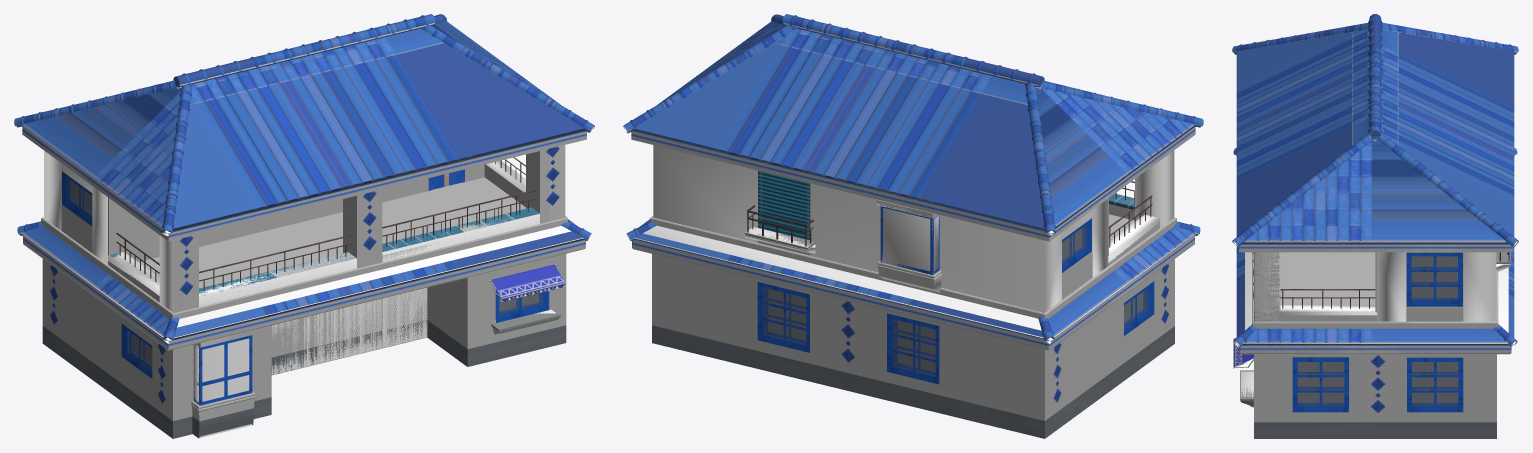
File: objects_un_c02house02_s1.gltf
3 views of the same model, side by side, from view 1: azimuth 30°, elevation 25°; view 2: azimuth 150°, elevation 25°; view 3: azimuth 270°, elevation 25° (orthographic). The views are drawn at different scales.
Visible parts, largest first — view 1: um_objects_un_c02house02_s1_model_lod0Shape:objects_un_c02ho (×7), um_objects_un_c02house02_s1_model_lod1Shape:objects_un_c02ho (×6), um_objects_un_c02house02_s1_model_lod2Shape:objects_un_c02ho (×6); view 2: um_objects_un_c02house02_s1_model_lod0Shape:objects_un_c02ho (×6), um_objects_un_c02house02_s1_model_lod1Shape:objects_un_c02ho (×5), um_objects_un_c02house02_s1_model_lod2Shape:objects_un_c02ho (×7); view 3: um_objects_un_c02house02_s1_model_lod1Shape:objects_un_c02ho (×5), um_objects_un_c02house02_s1_model_lod0Shape:objects_un_c02ho (×5), um_objects_un_c02house02_s1_model_lod2Shape:objects_un_c02ho (×6).
Part boxes in pixels (bbox=[...]): um_objects_un_c02house02_s1_model_lod0Shape:objects_un_c02ho (×7): bbox=[14, 14, 594, 438]; um_objects_un_c02house02_s1_model_lod1Shape:objects_un_c02ho (×6): bbox=[21, 16, 587, 438]; um_objects_un_c02house02_s1_model_lod2Shape:objects_un_c02ho (×6): bbox=[28, 16, 585, 438]; um_objects_un_c02house02_s1_model_lod0Shape:objects_un_c02ho (×6): bbox=[623, 14, 1203, 438]; um_objects_un_c02house02_s1_model_lod1Shape:objects_un_c02ho (×5): bbox=[631, 16, 1199, 375]; um_objects_un_c02house02_s1_model_lod2Shape:objects_un_c02ho (×7): bbox=[627, 17, 1191, 438]; um_objects_un_c02house02_s1_model_lod1Shape:objects_un_c02ho (×5): bbox=[1234, 23, 1516, 412]; um_objects_un_c02house02_s1_model_lod0Shape:objects_un_c02ho (×5): bbox=[1232, 14, 1518, 411]; um_objects_un_c02house02_s1_model_lod2Shape:objects_un_c02ho (×6): bbox=[1241, 23, 1517, 438].
Size of what is drawn, in the model's own units: 15.45 by 10.19 by 9.51.
Materials: 10 (8 with a texture image).
